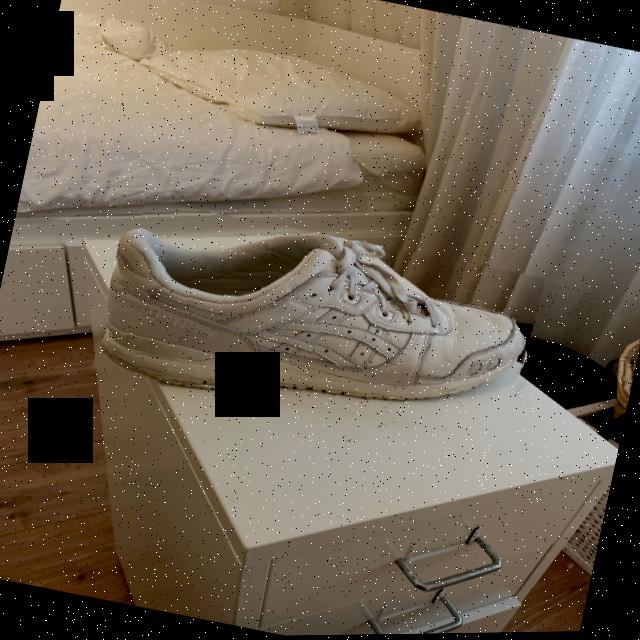shoe: (92, 192, 546, 458)
